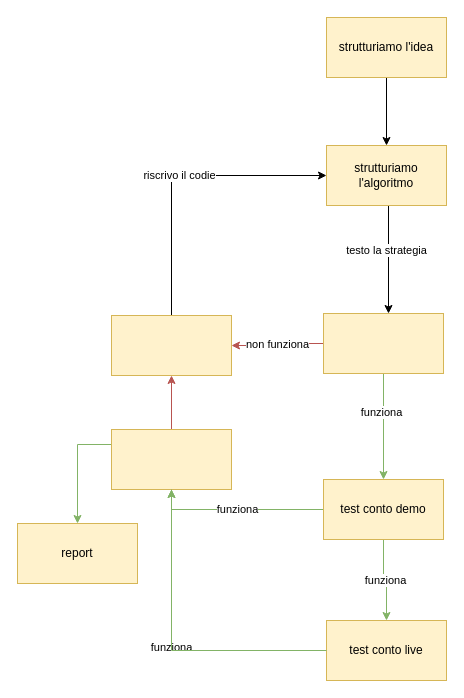
This 464x698 diagram has some shape labels left out. Each missing label, with the box of its shape:
backtest: (322, 312, 444, 374)
monitoro giornalmente: (110, 428, 232, 490)
raccolgo nuuove idee: (110, 314, 232, 376)
